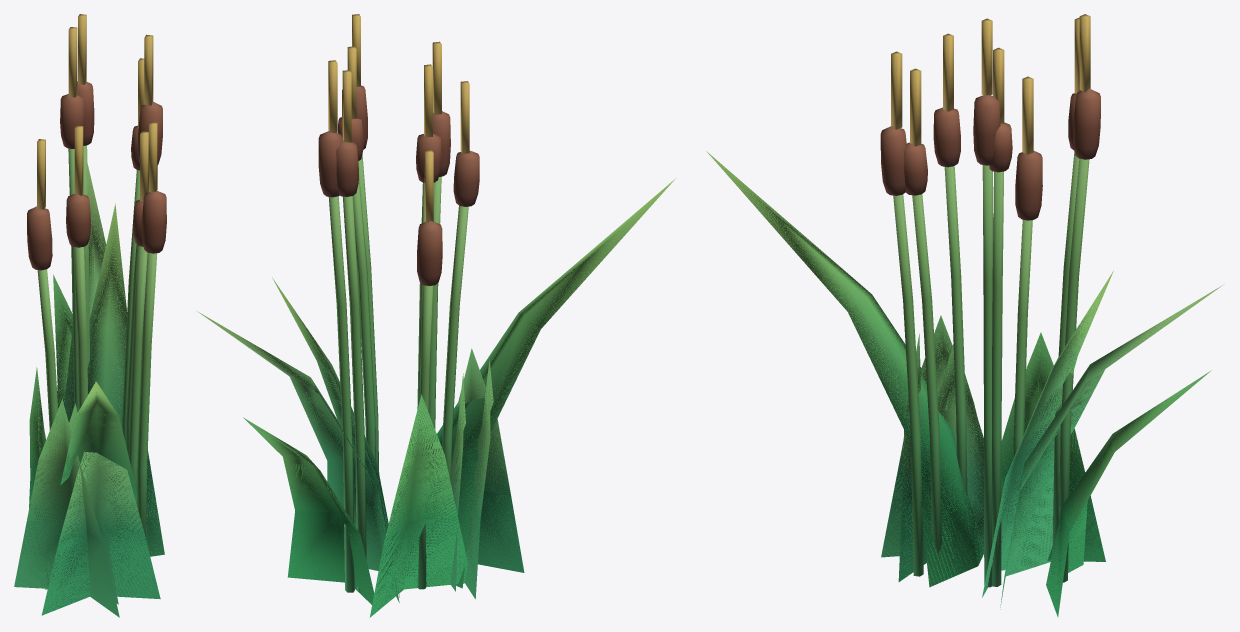
The model's file is verdant_ground_cattails.glb.
3 renders of one model, left to right at view 1: azimuth 30°, elevation 25°; view 2: azimuth 150°, elevation 25°; view 3: azimuth 270°, elevation 25°, orthographic. The views are drawn at different scales.
Parts seen in each view (by area): view 1: verdant_ground_cattails; view 2: verdant_ground_cattails; view 3: verdant_ground_cattails.
Boxes of the visible parts, <box> form: verdant_ground_cattails: <box>14,14,166,617</box>; verdant_ground_cattails: <box>197,14,675,617</box>; verdant_ground_cattails: <box>706,14,1224,616</box>.
Size of the model in its own units: 1.14 by 2.52 by 2.05.
